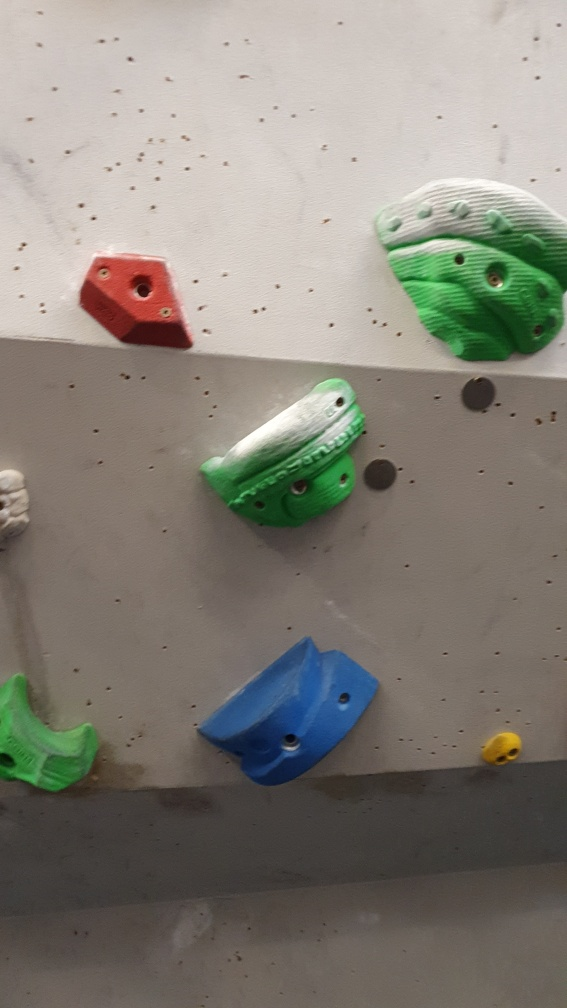Crimp: (75, 243, 198, 351)
Hand Start: (456, 371, 502, 420), (358, 454, 406, 500)
Jug: (372, 173, 567, 371), (198, 376, 369, 525), (1, 666, 112, 804)
Pinch: (194, 636, 385, 790)
